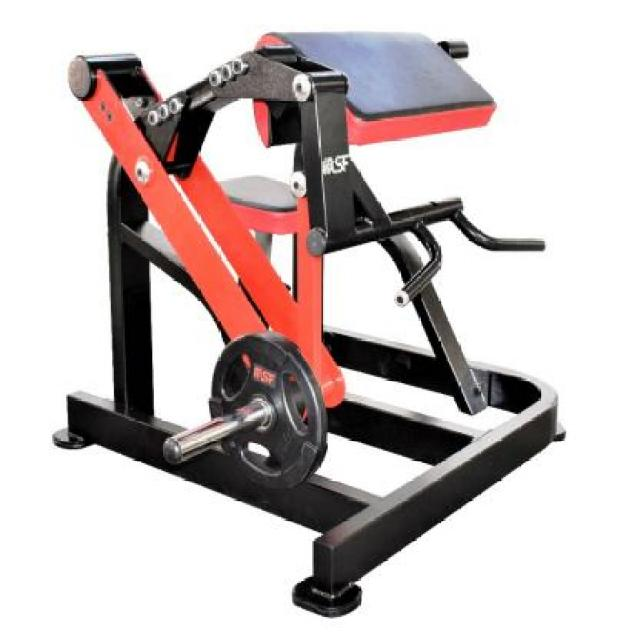arm curl machine: (52, 29, 566, 617)
